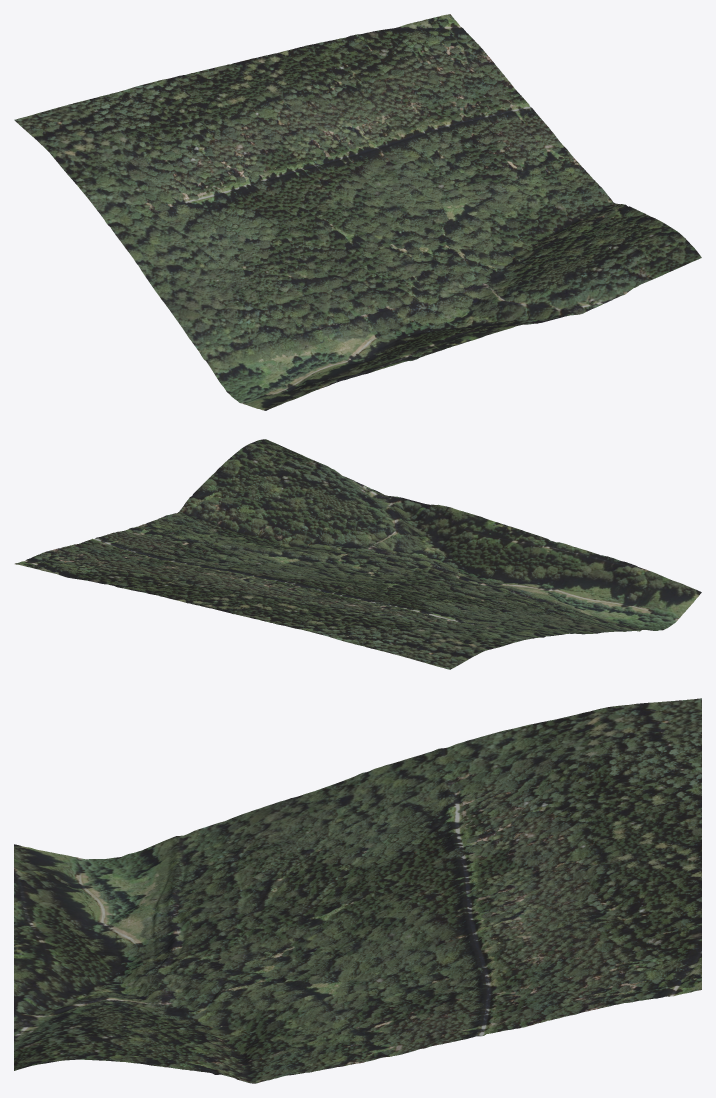
File: terrain_0_0.glb
The picture shows the model from 3 angles, top to bottom: view 1: azimuth 30°, elevation 25°; view 2: azimuth 150°, elevation 25°; view 3: azimuth 270°, elevation 25°; orthographic projection. The views are drawn at different scales.
Visible parts, largest first — view 1: geometry_0; view 2: geometry_0; view 3: geometry_0.
Part boxes in pixels (x1,y1,x2,y2): geometry_0: (14, 14, 701, 410); geometry_0: (15, 439, 701, 669); geometry_0: (14, 698, 701, 1083).
Bounding box in the file's own units: 499 × 133 × 499.
Materials: 1 (1 with a texture image).
